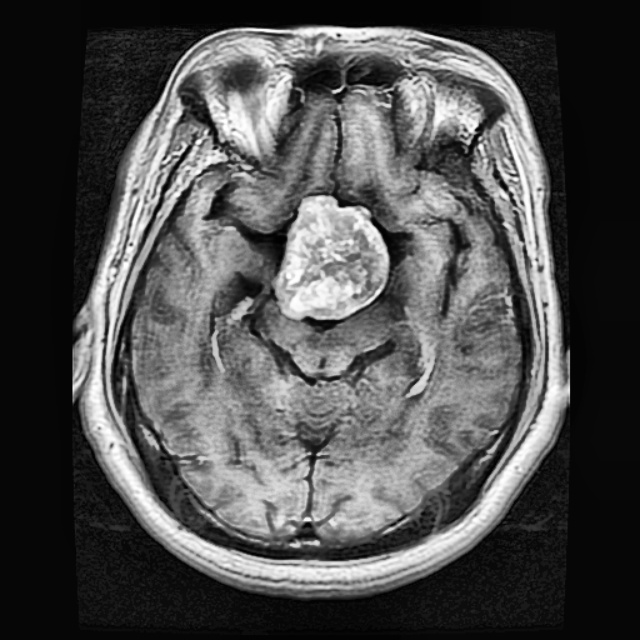Pituitary: (274, 197, 387, 317)
